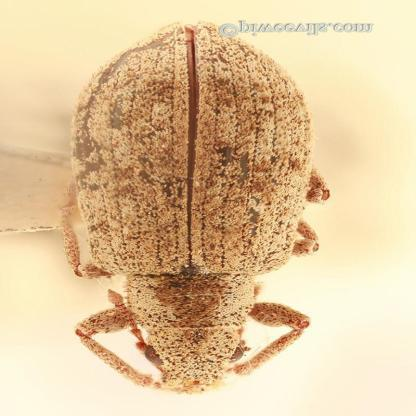rice-bug: (57, 20, 332, 394)
